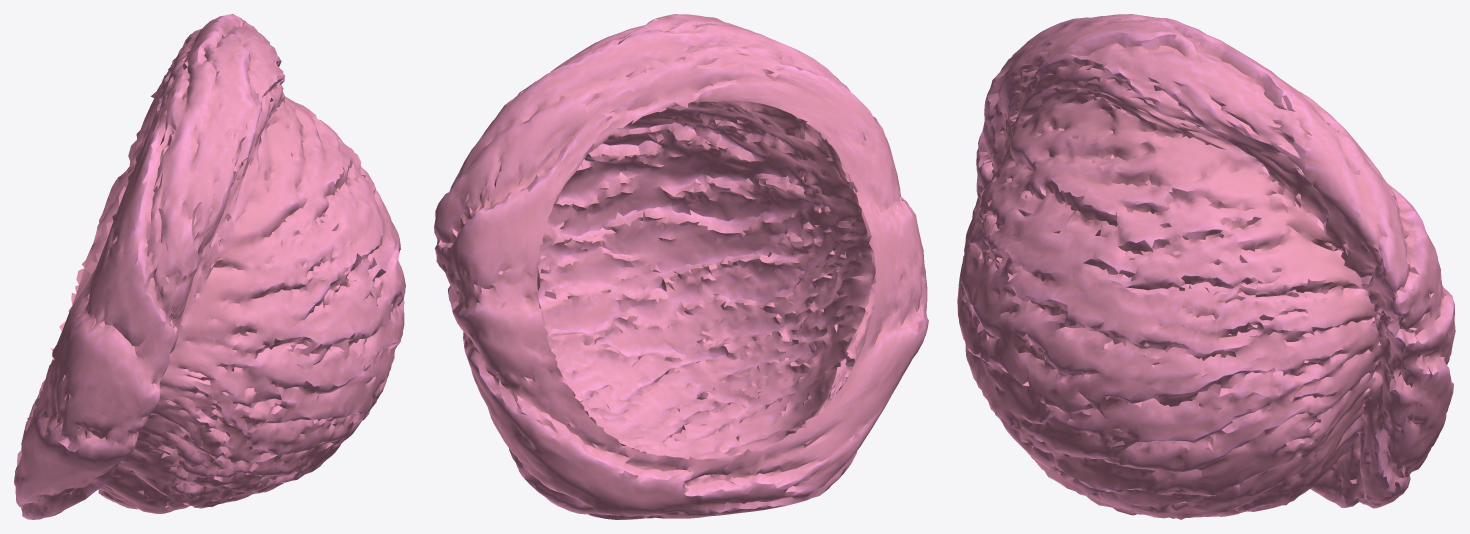
Rendered from ice_cream.obj.
3 views of the same model, side by side, from view 1: azimuth 30°, elevation 25°; view 2: azimuth 150°, elevation 25°; view 3: azimuth 270°, elevation 25° (orthographic). The views are drawn at different scales.
Parts seen in each view (by area): view 1: dynamic; view 2: dynamic; view 3: dynamic.
Boxes of the visible parts, x1=… form: dynamic: x1=14, y1=14, x2=405, y2=519; dynamic: x1=434, y1=14, x2=928, y2=519; dynamic: x1=957, y1=14, x2=1455, y2=519.
Bounding box in the file's own units: 64.94 × 72.23 × 65.97.
1 material, 1 textured.
